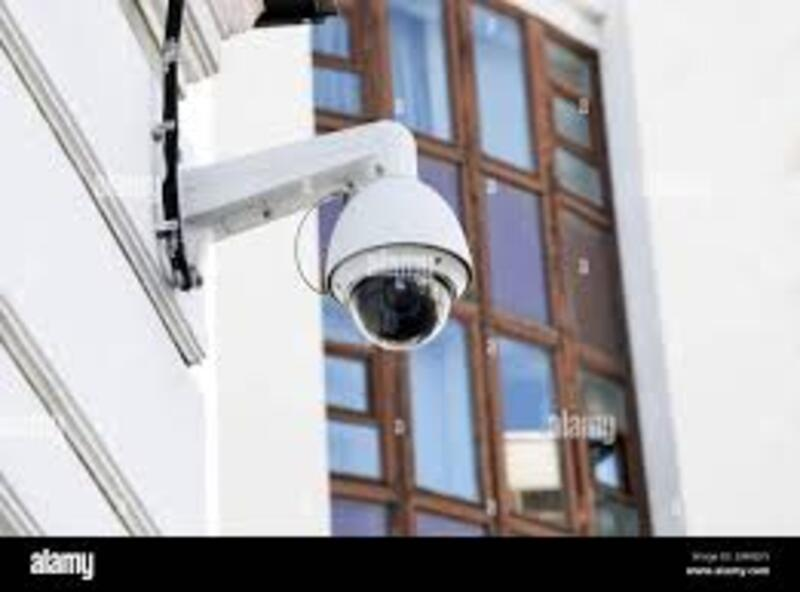bullet: (314, 189, 478, 362)
